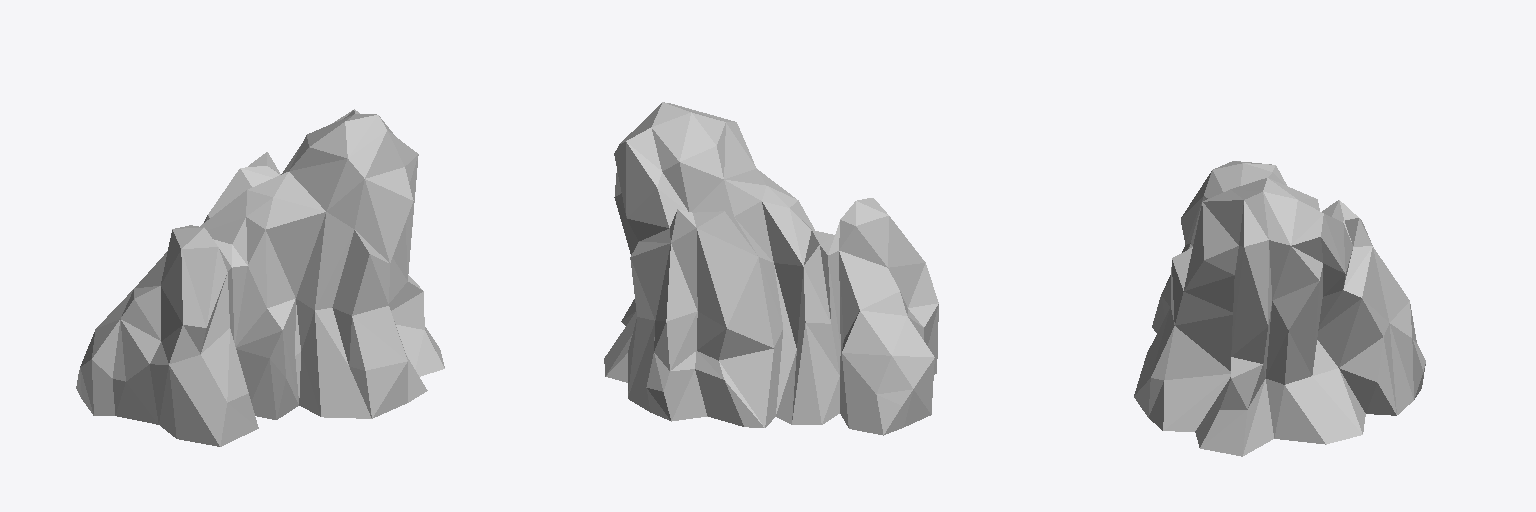
Rendered from rock_005_LOD1.obj.
3 views of the same model, side by side, from view 1: azimuth 30°, elevation 25°; view 2: azimuth 150°, elevation 25°; view 3: azimuth 270°, elevation 25° (orthographic).
Parts seen in each view (by area): view 1: rock_005_LOD1 rock_005; view 2: rock_005_LOD1 rock_005; view 3: rock_005_LOD1 rock_005.
Boxes of the visible parts, box(x1,y1,x2,y2) form: rock_005_LOD1 rock_005: box(76, 109, 444, 446); rock_005_LOD1 rock_005: box(604, 102, 938, 435); rock_005_LOD1 rock_005: box(1134, 161, 1425, 456).
Size of the model in its own units: 1316 by 910 by 1007.